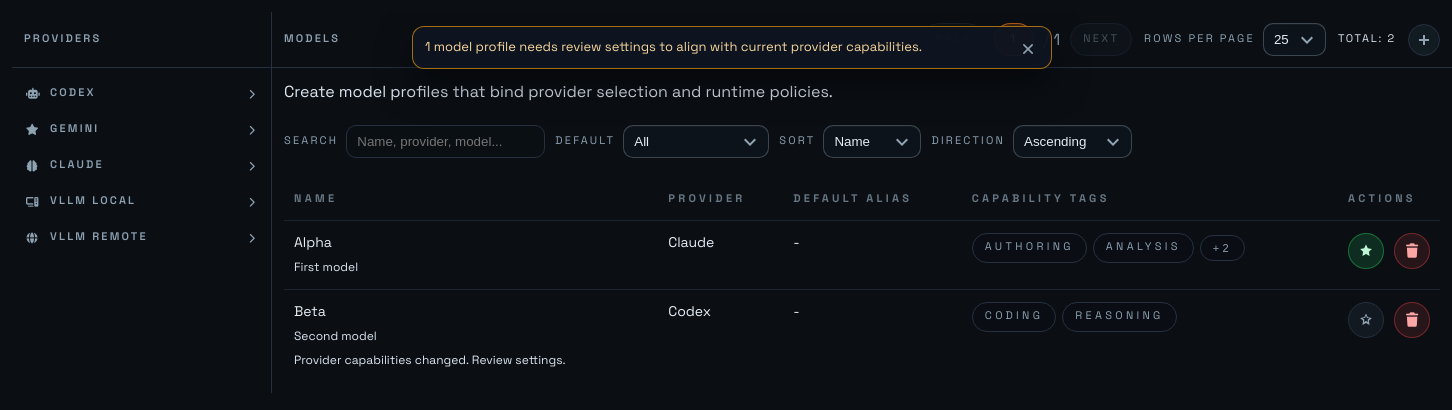
ModelsPage › surfaces compatibility drift notice through flash and exposes review settings hint
Expected: the text "1 model profile needs review settings to align with current provider capabilities." is shown, [425,38,922,55]
Click the link "Review settings" at [517, 360], box [472,352,562,368]
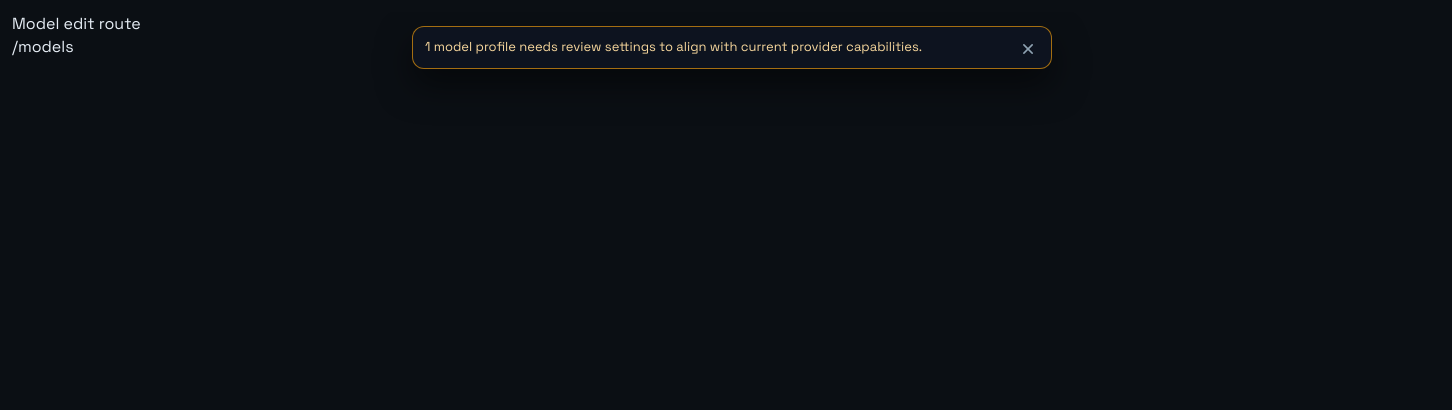
Result: the text "Model edit route" is shown at [12,13,141,34]
Result: the text with test id "model-edit-from" reads "/models" at [12,36,74,57]
